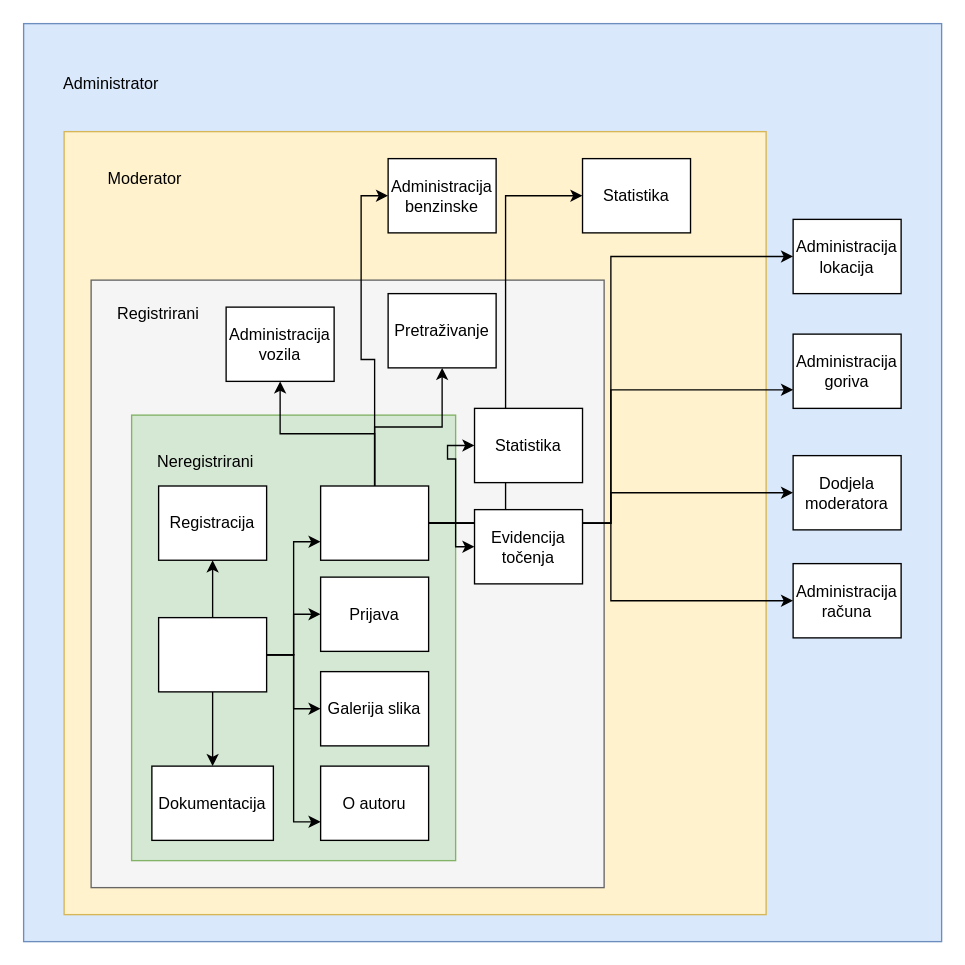
Some shapes in this 965 by 965 pixel diagram are drawn without their labels. The shapes that lost their labels are listed below. From the top down, each one's centre as x and y in pixels, then its label:
pixel 374 522: Izbornik
pixel 212 654: Početna stranica
